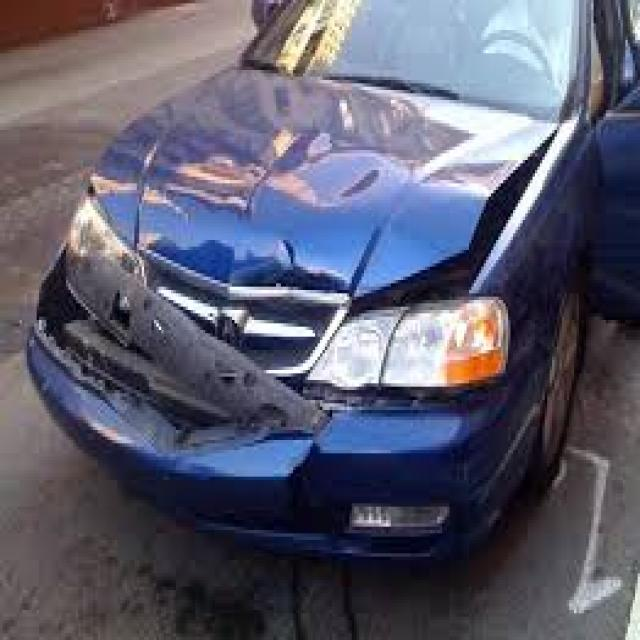moderate: (28, 134, 555, 492)
